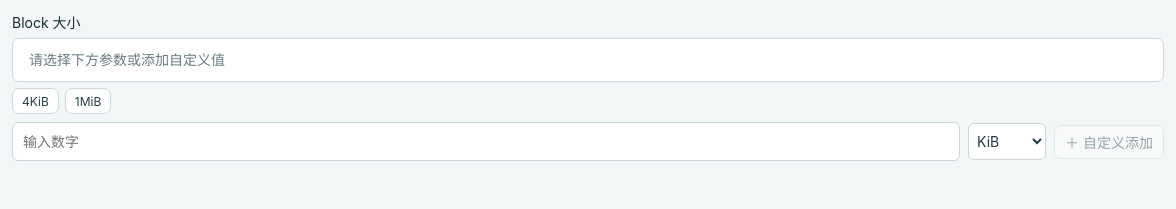
Scenario: unitless fields have no unit selector and size fields reject typed units
The width and height of the screenshot is (1176, 209).
In the field named "Block 大小自定义值": (486, 142) [12, 122, 960, 161], type "16k"
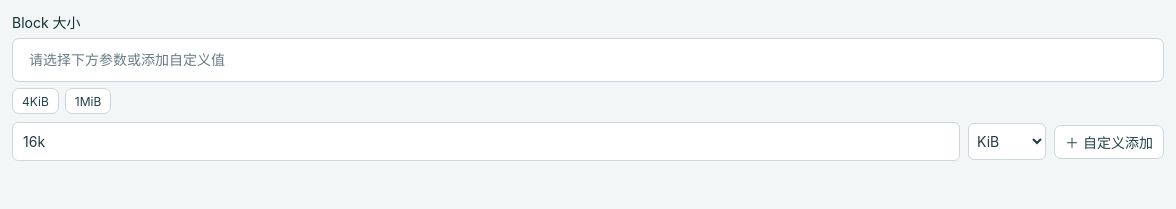
Click the button named "添加 Block 大小自定义值": (1109, 142) [1054, 124, 1164, 158]
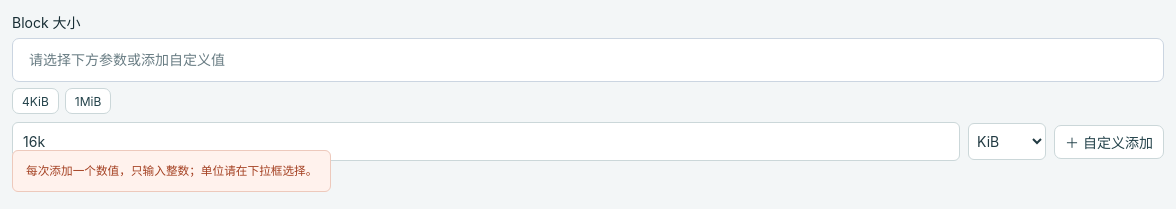
Expected: the message shows "只输入整数", [26, 164, 317, 178]
